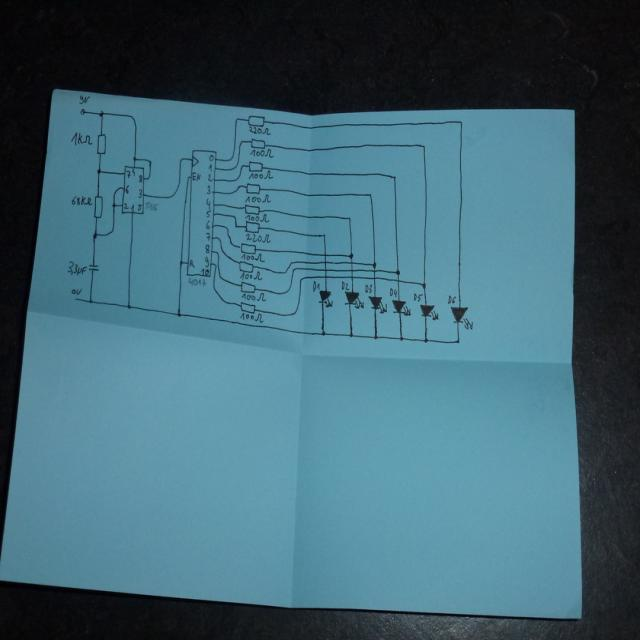capacitor: (88, 262, 99, 273)
crossover: (395, 276, 402, 284), (322, 251, 328, 258), (371, 274, 377, 281), (322, 266, 328, 272), (371, 267, 377, 273), (323, 258, 328, 265), (349, 266, 354, 273), (323, 273, 328, 279), (349, 259, 354, 265), (349, 273, 354, 279)
diode: (450, 305, 473, 329), (344, 290, 364, 309), (367, 295, 387, 313), (391, 299, 411, 316), (419, 303, 438, 320), (318, 290, 333, 308)
junction: (212, 284, 224, 302), (129, 113, 138, 126), (171, 185, 179, 197), (175, 309, 182, 318), (319, 328, 326, 336), (228, 240, 235, 248), (92, 231, 98, 240), (113, 185, 119, 194), (126, 302, 132, 310), (98, 109, 104, 117), (348, 330, 354, 338), (372, 332, 378, 340), (423, 336, 429, 344), (398, 334, 404, 342), (238, 139, 244, 147), (293, 306, 299, 314), (178, 258, 183, 267), (132, 155, 138, 162), (219, 246, 225, 253), (285, 286, 291, 293), (421, 281, 426, 289), (421, 142, 426, 150), (224, 224, 229, 232), (216, 235, 222, 241), (109, 227, 114, 234), (96, 167, 101, 174), (395, 268, 400, 275), (368, 191, 373, 198), (392, 173, 397, 180), (233, 163, 238, 170), (298, 275, 303, 282), (178, 156, 183, 163), (112, 200, 116, 208), (229, 153, 233, 161), (455, 338, 460, 344), (234, 116, 239, 122), (88, 297, 92, 304), (459, 118, 463, 125), (322, 231, 326, 238), (232, 214, 237, 219), (148, 158, 152, 164), (146, 174, 150, 180), (372, 261, 376, 267), (349, 252, 353, 258), (237, 183, 241, 189), (234, 223, 238, 229), (218, 271, 221, 279), (289, 259, 293, 265), (283, 269, 287, 275), (232, 188, 235, 195), (348, 215, 352, 220), (240, 164, 244, 169), (214, 250, 218, 255), (292, 266, 295, 272), (235, 176, 239, 180), (186, 175, 189, 179), (214, 262, 216, 267)
resistor: (93, 194, 103, 218), (96, 132, 106, 155), (246, 114, 265, 126), (238, 259, 254, 273), (239, 241, 256, 254), (244, 181, 260, 194), (244, 220, 260, 233), (240, 300, 256, 313), (247, 159, 264, 171), (243, 203, 260, 215), (240, 280, 255, 293), (250, 137, 266, 149)
terminal: (79, 108, 86, 114), (74, 295, 78, 302)
text: (66, 259, 86, 276), (70, 132, 93, 146), (245, 232, 271, 244), (245, 193, 271, 204), (241, 291, 266, 302), (70, 194, 92, 206), (240, 312, 264, 323), (240, 270, 262, 280), (248, 126, 272, 135), (245, 213, 269, 222), (250, 148, 273, 157), (248, 170, 273, 178), (188, 276, 206, 287), (242, 253, 264, 262), (145, 201, 158, 211), (78, 94, 90, 104), (413, 291, 423, 302), (71, 286, 81, 295), (312, 280, 319, 292), (447, 294, 456, 303), (389, 287, 396, 298), (205, 198, 211, 210), (192, 171, 200, 180), (341, 280, 348, 290), (365, 283, 372, 293), (204, 243, 210, 254), (200, 268, 209, 275), (205, 230, 210, 242), (189, 259, 195, 268), (205, 209, 211, 218), (204, 255, 208, 267), (123, 202, 129, 210), (205, 220, 210, 229), (137, 202, 142, 211), (206, 184, 210, 194), (125, 184, 129, 194), (126, 169, 130, 179), (138, 188, 142, 198), (209, 153, 213, 161), (207, 173, 211, 181), (130, 203, 134, 211), (132, 168, 136, 176), (138, 174, 142, 182), (208, 163, 212, 170)
